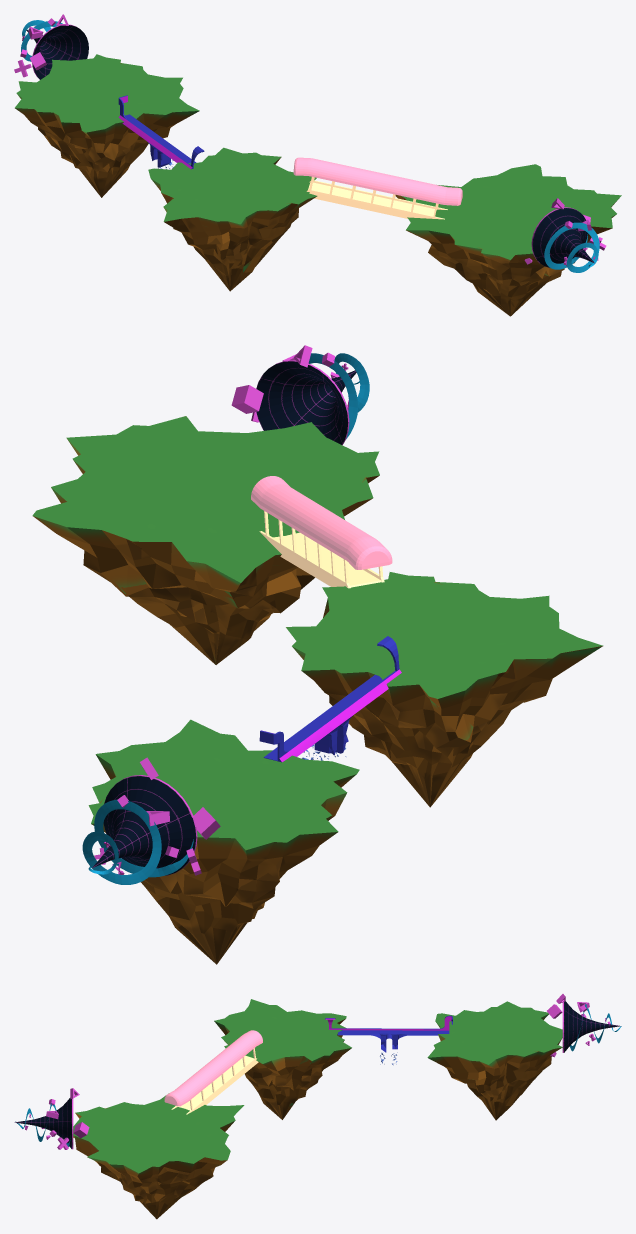
The model's file is Floating_Island.gltf.
3 renders of one model, top to bottom at view 1: azimuth 30°, elevation 25°; view 2: azimuth 150°, elevation 25°; view 3: azimuth 270°, elevation 25°, orthographic. The views are drawn at different scales.
Parts seen in each view (by area): view 1: Ile 3, Ile 1, Ile 2, Toit pont 2, Pont 2, Cylinder, Cylinder.001, Pont 1, Plane; view 2: Ile 3, Ile 2, Ile 1, Cylinder.001, Cylinder, Toit pont 2, Pont 1, Pont 2, Plane.009, Plane; view 3: Ile 3, Ile 1, Ile 2, Toit pont 2, Pont 1, Pont 2, Cylinder.001, Cylinder.
Boxes of the visible parts, x1,y1,x2,y2 form: Ile 3: (395,164,621,316); Ile 1: (15,54,199,197); Ile 2: (148,147,317,291); Toit pont 2: (293,157,462,205); Pont 2: (306,177,447,219); Cylinder: (531,207,594,267); Cylinder.001: (26,24,88,79); Pont 1: (118,95,204,169); Plane: (544,222,599,272); Ile 3: (32,416,379,664); Ile 2: (286,572,603,807); Ile 1: (88,719,359,964); Cylinder.001: (92,775,197,875); Cylinder: (256,360,356,445); Toit pont 2: (251,476,392,569); Pont 1: (259,636,401,762); Pont 2: (259,511,384,588); Plane.009: (82,799,193,884); Plane: (308,353,369,439); Ile 3: (73,1093,244,1219); Ile 1: (427,1001,562,1120); Ile 2: (214,999,351,1119); Toit pont 2: (164,1030,262,1106); Pont 1: (325,1015,452,1052); Pont 2: (171,1048,258,1114); Cylinder.001: (562,1001,621,1052); Cylinder: (14,1098,73,1149).
Bounding box in the file's own units: 680 × 288 × 1103.
13 materials, 6 textured.
